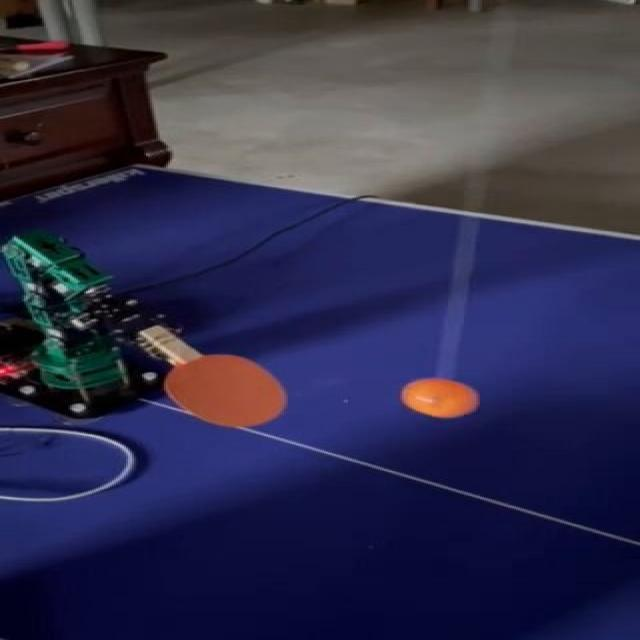ping-pong-ball: (402, 380, 484, 420)
